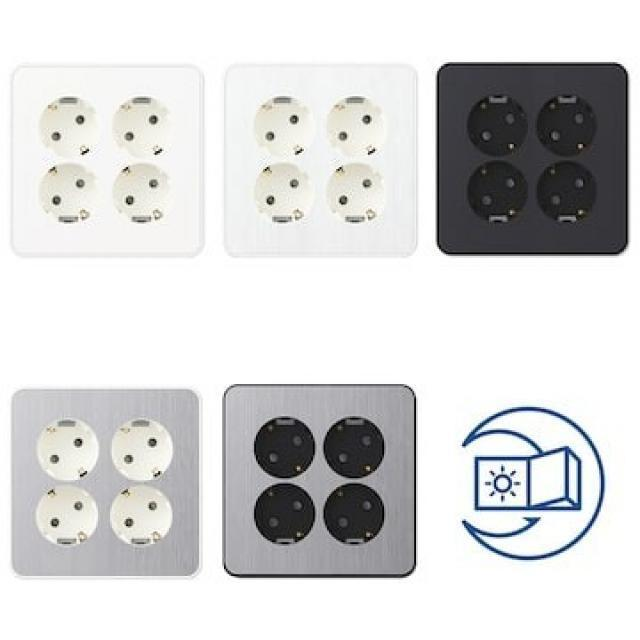typeb: (218, 362, 441, 606), (220, 52, 429, 281), (0, 366, 214, 584), (5, 54, 216, 274), (435, 54, 630, 284)
